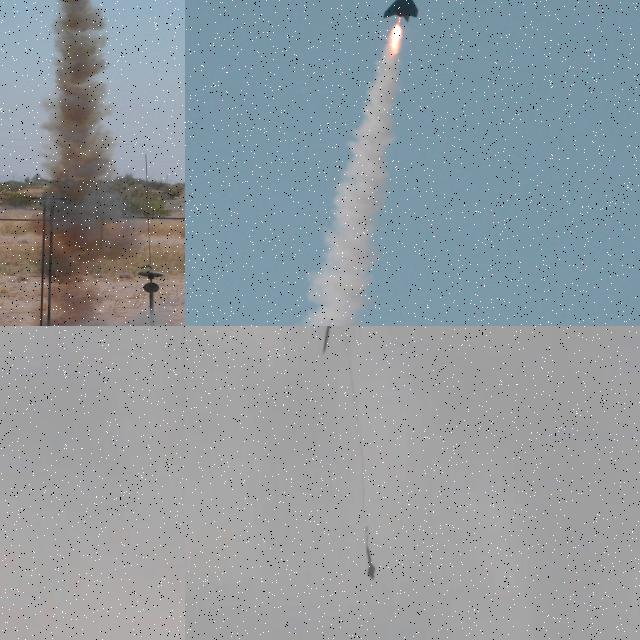Rocket: (384, 0, 428, 22), (366, 545, 376, 580)
